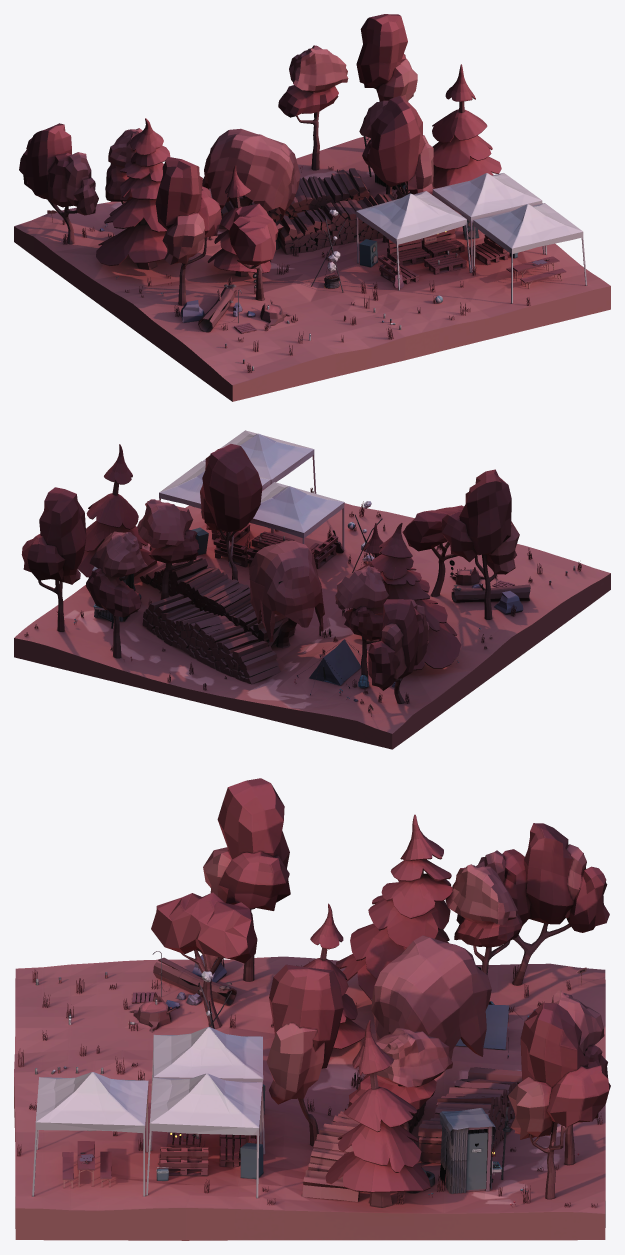
File: compressed_nova_map.glb
3 renders of one model, top to bottom at view 1: azimuth 30°, elevation 25°; view 2: azimuth 150°, elevation 25°; view 3: azimuth 270°, elevation 25°, orthographic. The views are drawn at different scales.
Parts seen in each view (by area): view 1: Modell allgemein baked, nicht decimated; view 2: Modell allgemein baked, nicht decimated; view 3: Modell allgemein baked, nicht decimated.
Boxes of the visible parts, bbox=[...] form: Modell allgemein baked, nicht decimated: bbox=[14, 14, 610, 401]; Modell allgemein baked, nicht decimated: bbox=[14, 430, 610, 749]; Modell allgemein baked, nicht decimated: bbox=[14, 778, 610, 1240].
Size of the model in its own units: 15.72 by 6.39 by 14.97.
8 materials, 2 textured.
